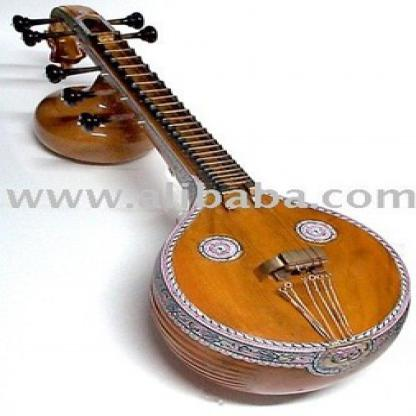Veena: (99, 61, 359, 351)
